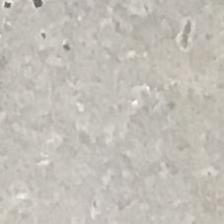Non_Crack: (7, 11, 224, 224)
